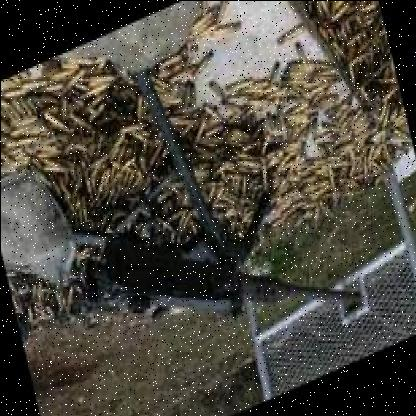rifle: (88, 132, 358, 410)
